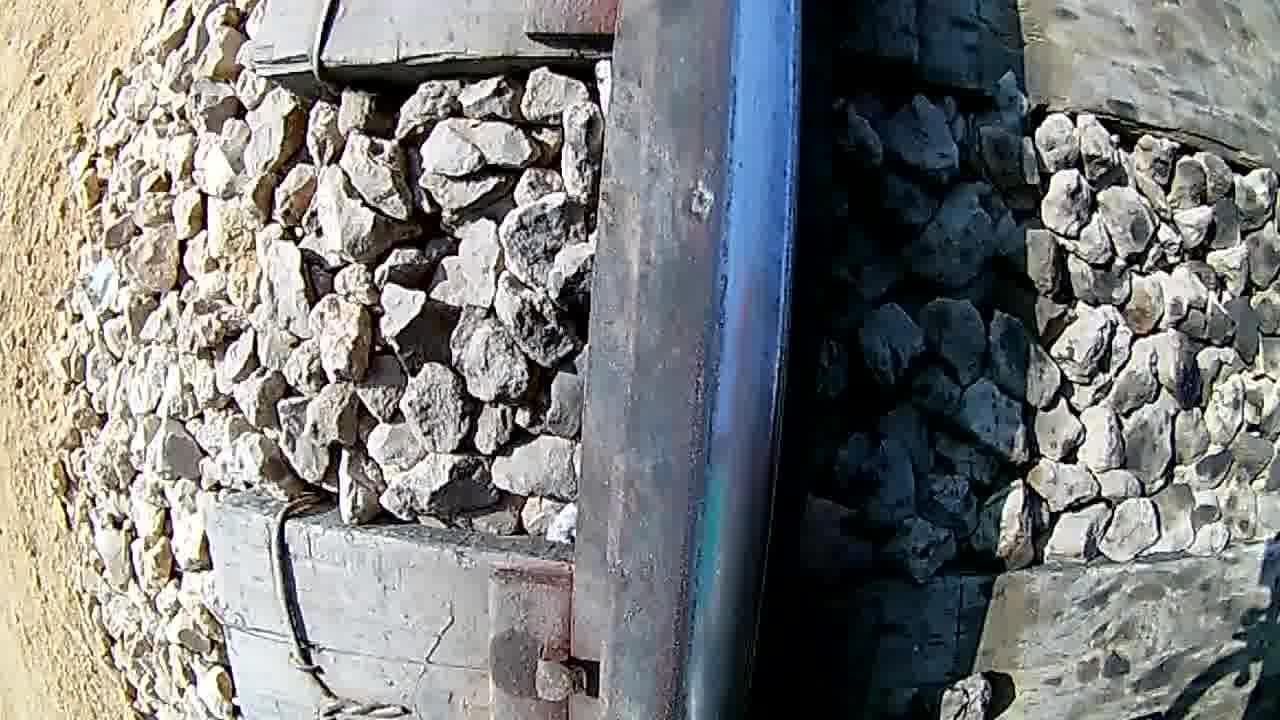crack: (600, 83, 780, 720)
